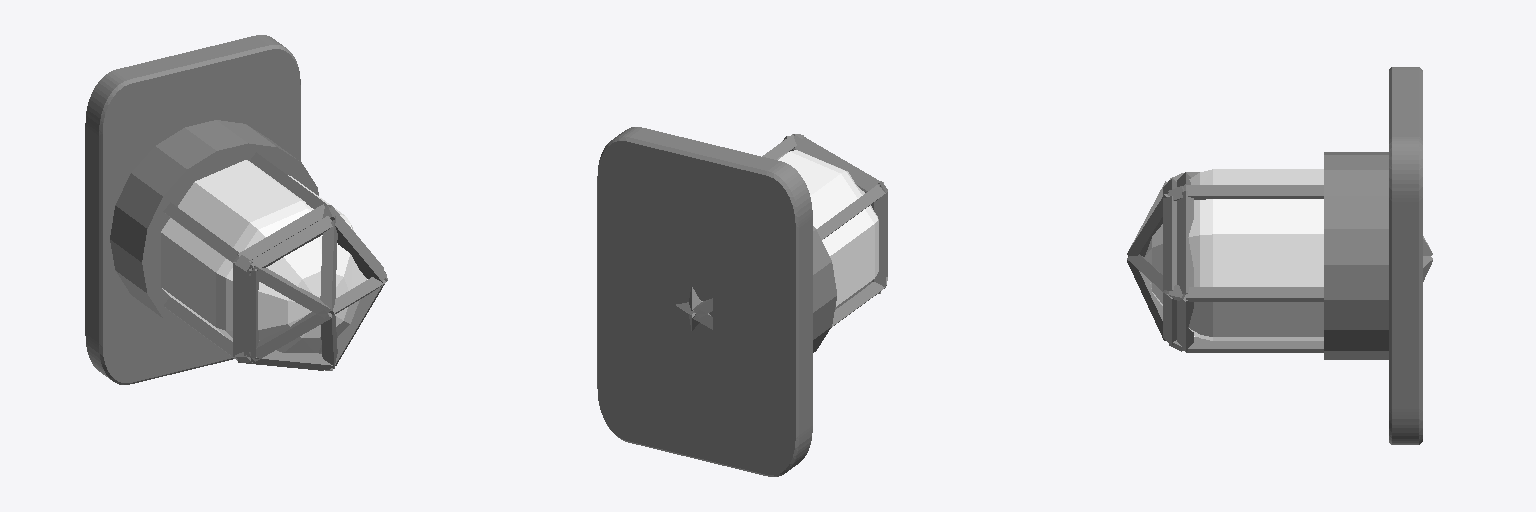
Rendered from mdl_lamp.obj.
3 views of the same model, side by side, from view 1: azimuth 30°, elevation 25°; view 2: azimuth 150°, elevation 25°; view 3: azimuth 270°, elevation 25° (orthographic).
Visible parts, largest first — view 1: Rectangle001, OilTank001, OilTank002, Cylinder001; view 2: Rectangle001, OilTank001, OilTank002, Cylinder001; view 3: OilTank001, Cylinder001, OilTank002, Rectangle001.
Part boxes in pixels (bbox=[...]): Rectangle001: bbox=[85, 35, 300, 384]; OilTank001: bbox=[161, 160, 366, 353]; OilTank002: bbox=[163, 152, 387, 370]; Cylinder001: bbox=[110, 120, 318, 335]; Rectangle001: bbox=[597, 127, 812, 476]; OilTank001: bbox=[700, 150, 878, 313]; OilTank002: bbox=[676, 134, 887, 330]; Cylinder001: bbox=[813, 226, 836, 352]; OilTank001: bbox=[1144, 169, 1323, 340]; Cylinder001: bbox=[1324, 152, 1388, 359]; OilTank002: bbox=[1127, 172, 1432, 352]; Rectangle001: bbox=[1389, 67, 1422, 444].
Bounding box in the file's own units: 0.2761 × 0.399 × 0.3634.